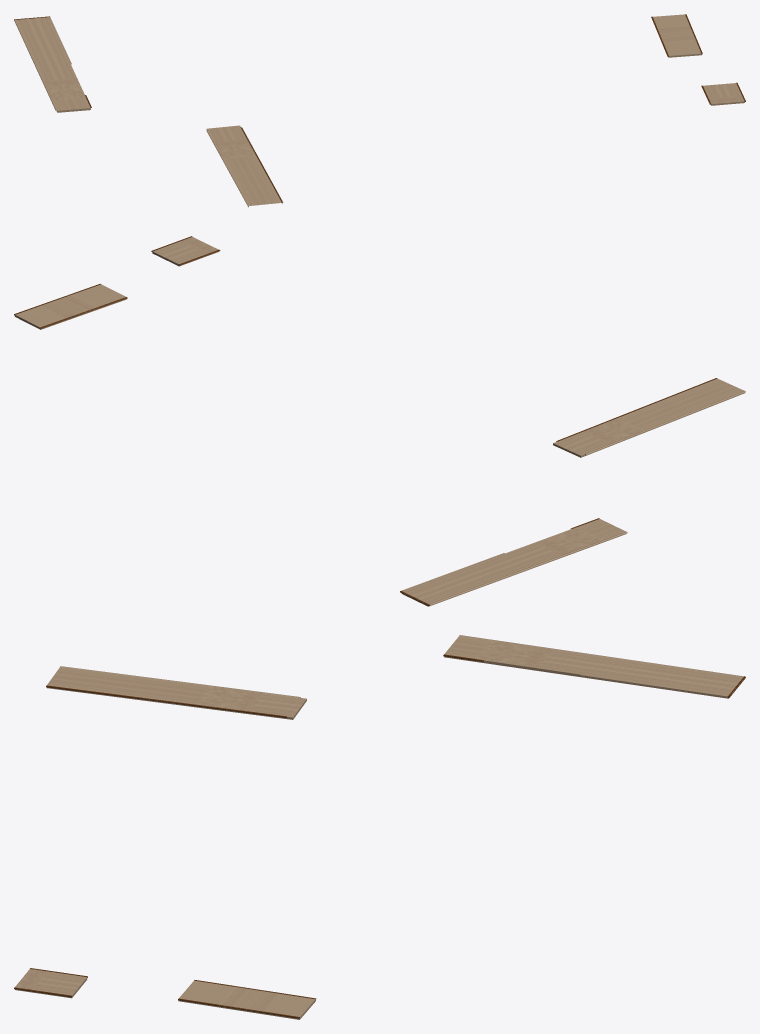
File: objects_un_t03tile03.gltf
The picture shows the model from 3 angles, top to bottom: view 1: azimuth 30°, elevation 25°; view 2: azimuth 150°, elevation 25°; view 3: azimuth 270°, elevation 25°; orthographic projection. The views are drawn at different scales.
Parts seen in each view (by area): view 1: um_objects_un_t03tile03_model_objects_un_t03tile03_modelShap; view 2: um_objects_un_t03tile03_model_objects_un_t03tile03_modelShap; view 3: um_objects_un_t03tile03_model_objects_un_t03tile03_modelShap.
Boxes of the visible parts, box(x1,y1,x2,y2) form: um_objects_un_t03tile03_model_objects_un_t03tile03_modelShap: box(14, 14, 745, 207); um_objects_un_t03tile03_model_objects_un_t03tile03_modelShap: box(14, 236, 745, 606); um_objects_un_t03tile03_model_objects_un_t03tile03_modelShap: box(14, 635, 745, 1019).
Bounding box in the file's own units: 121 × 0.4135 × 97.44.
1 material, 1 textured.
